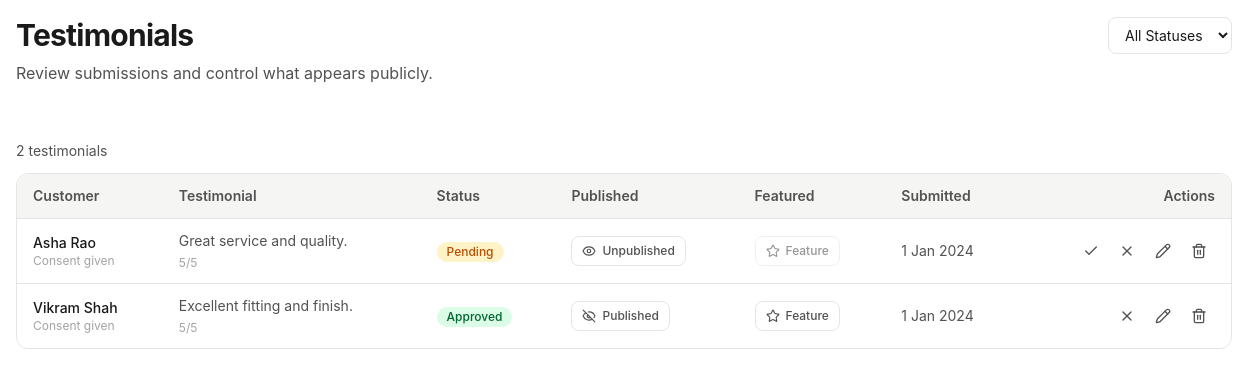
TestimonialsAdminPage › filters by status through the query string
Expected: the text "Asha Rao" is shown, [33,234,96,251]
Select "Approved" in the dropdown named "filter by status" at (1170, 36), box [1108,17,1232,54]
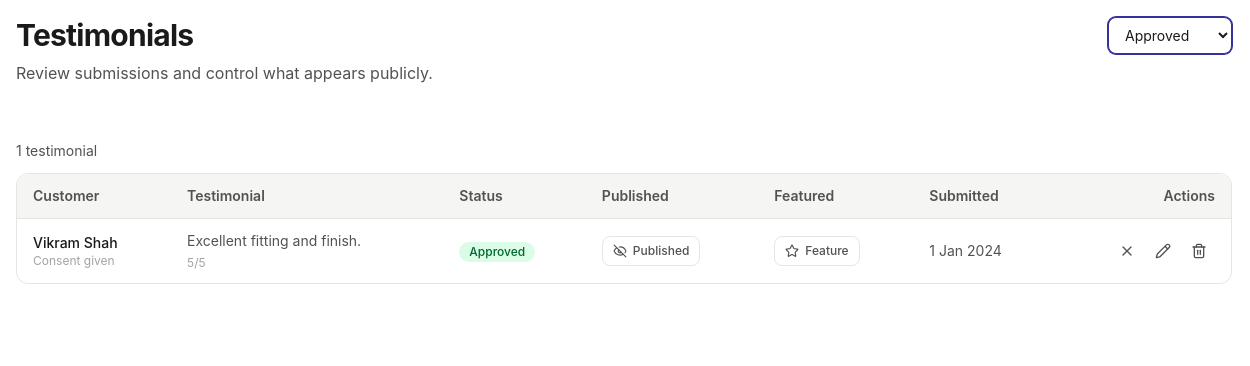
Expected: the text "Vikram Shah" is shown, [33,234,118,251]
Expected: the text "Asha Rao" is gone
